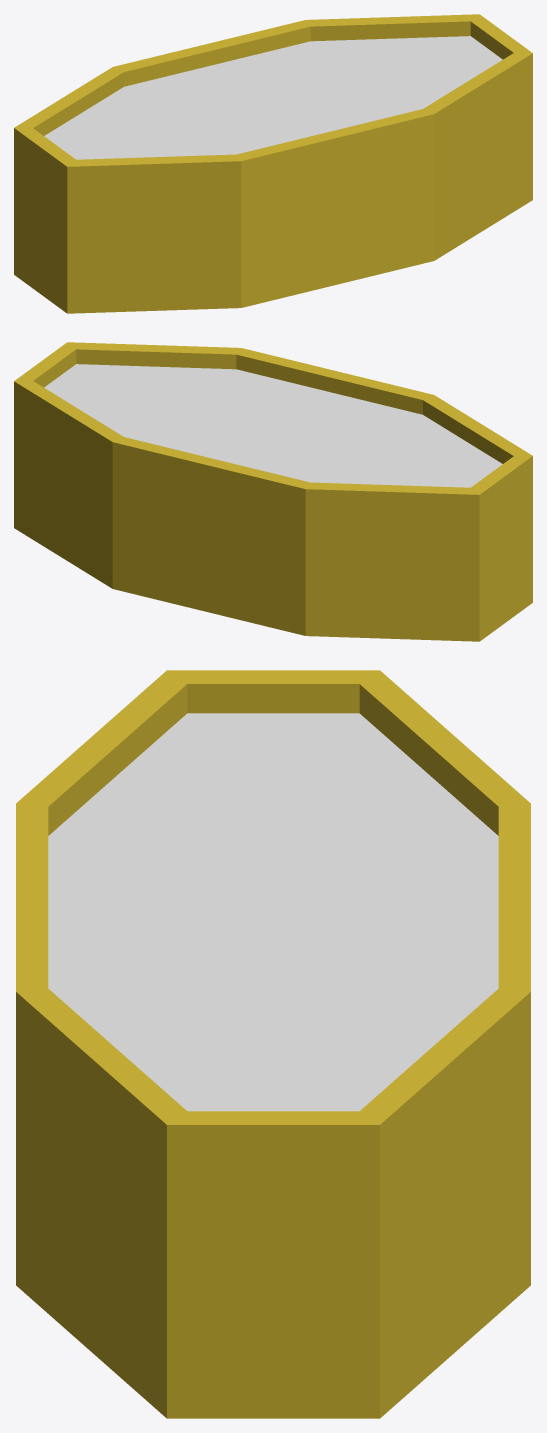
3 views of the same model, one above another, from view 1: azimuth 30°, elevation 25°; view 2: azimuth 150°, elevation 25°; view 3: azimuth 270°, elevation 25° (orthographic). The views are drawn at different scales.
Visible parts, largest first — view 1: SF; view 2: SF; view 3: SF.
Boxes of the visible parts, x1=… form: SF: x1=14, y1=14, x2=532, y2=313; SF: x1=14, y1=342, x2=532, y2=641; SF: x1=16, y1=670, x2=530, y2=1418.
Size of the model in its own units: 0.0197 by 0.00594 by 0.00943.
